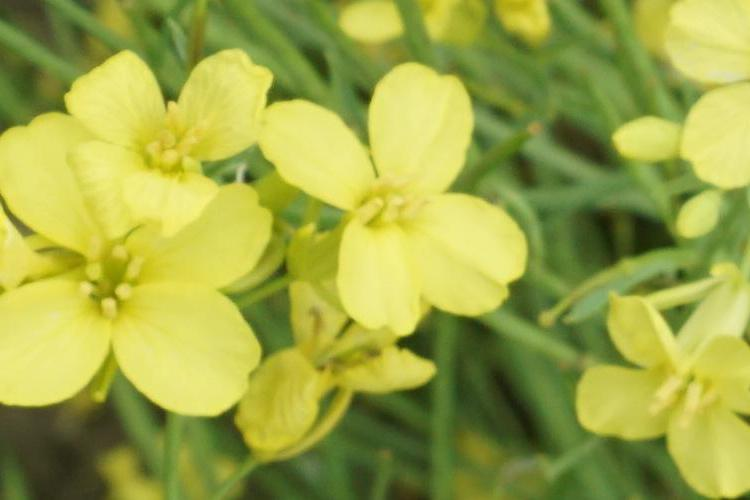bud: (597, 116, 684, 179), (673, 185, 727, 248)
yellow: (7, 156, 267, 419), (288, 91, 526, 320), (35, 67, 262, 232), (561, 303, 740, 492), (242, 302, 394, 470), (667, 22, 745, 179)
